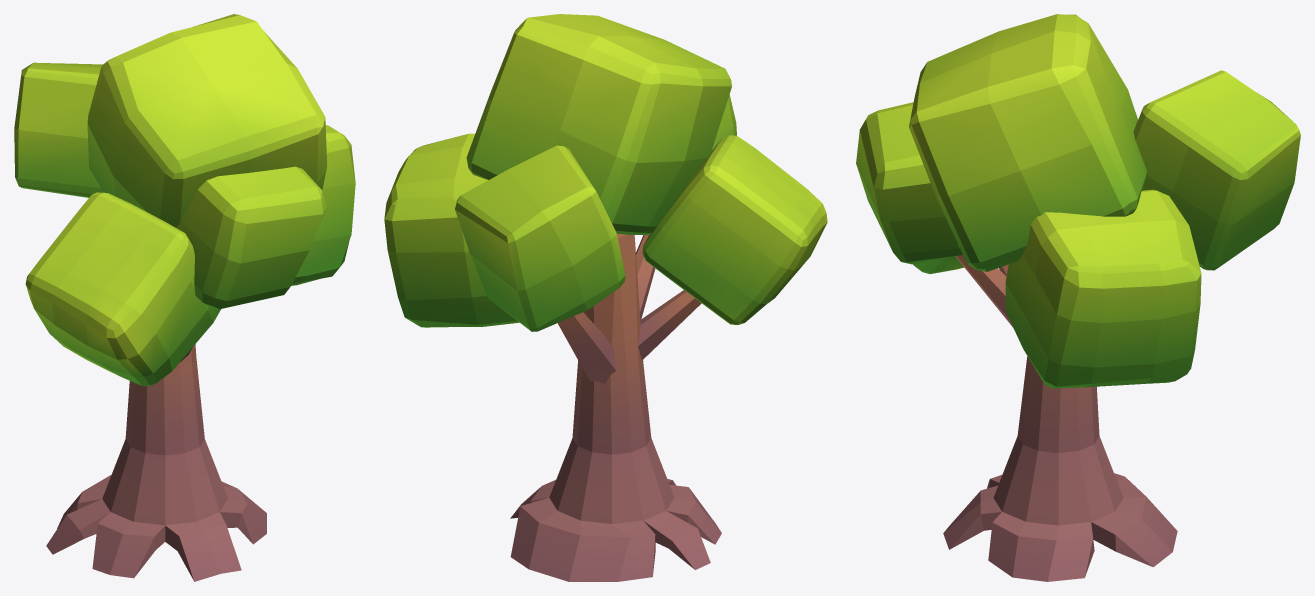
Rendered from Tree_Cube_SumAut_Small.fbx.
3 renders of one model, left to right at view 1: azimuth 30°, elevation 25°; view 2: azimuth 150°, elevation 25°; view 3: azimuth 270°, elevation 25°, orthographic. The views are drawn at different scales.
Visible parts, largest first — view 1: Tree_Cube_SumAut_Small; view 2: Tree_Cube_SumAut_Small; view 3: Tree_Cube_SumAut_Small.
Boxes of the visible parts, x1=… form: Tree_Cube_SumAut_Small: x1=14, y1=14, x2=355, y2=581; Tree_Cube_SumAut_Small: x1=384, y1=14, x2=827, y2=581; Tree_Cube_SumAut_Small: x1=856, y1=14, x2=1300, y2=581.
Bounding box in the file's own units: 245 × 322 × 252.
